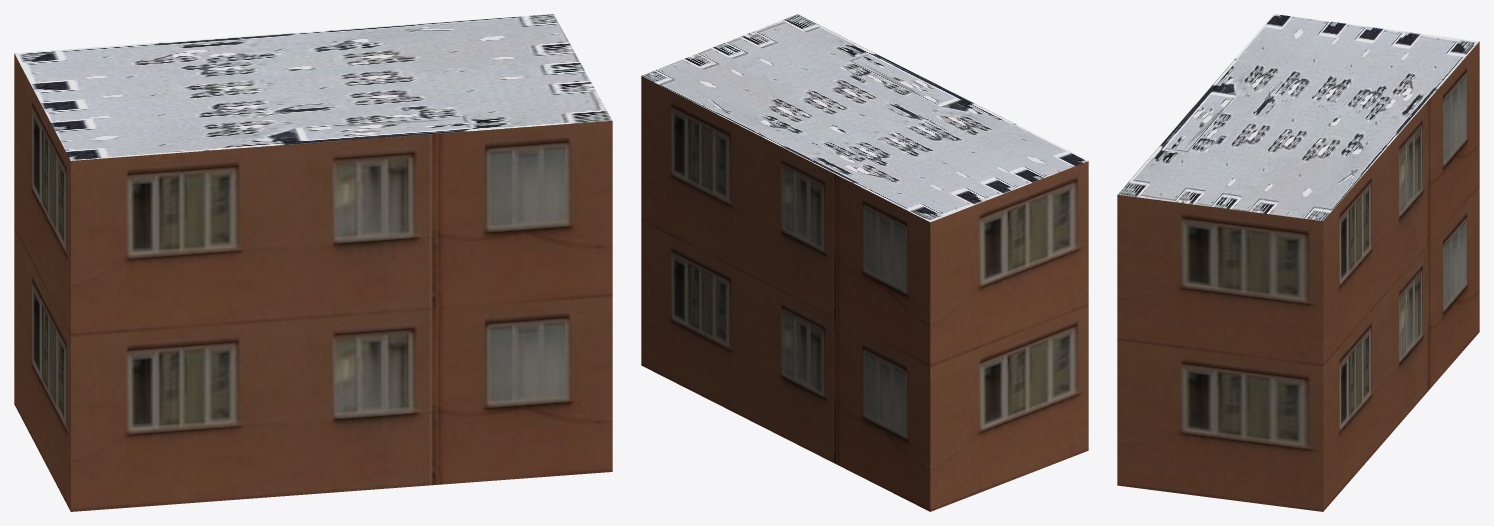
File: ResTex__3130.fbx
3 views of the same model, side by side, from view 1: azimuth 30°, elevation 25°; view 2: azimuth 150°, elevation 25°; view 3: azimuth 270°, elevation 25° (orthographic). The views are drawn at different scales.
Visible parts, largest first — view 1: CityEngineMaterial_20_m, CityEngineMaterial_8_m; view 2: CityEngineMaterial_20_m, CityEngineMaterial_8_m; view 3: CityEngineMaterial_20_m, CityEngineMaterial_8_m.
Part boxes in pixels (x1,y1,x2,y2): CityEngineMaterial_20_m: [14, 54, 612, 511]; CityEngineMaterial_8_m: [14, 14, 612, 160]; CityEngineMaterial_20_m: [641, 76, 1088, 511]; CityEngineMaterial_8_m: [641, 14, 1087, 222]; CityEngineMaterial_20_m: [1117, 41, 1479, 511]; CityEngineMaterial_8_m: [1117, 14, 1479, 220].
Bounding box in the file's own units: 9.17 × 6 × 6.77.
2 materials, 2 textured.
